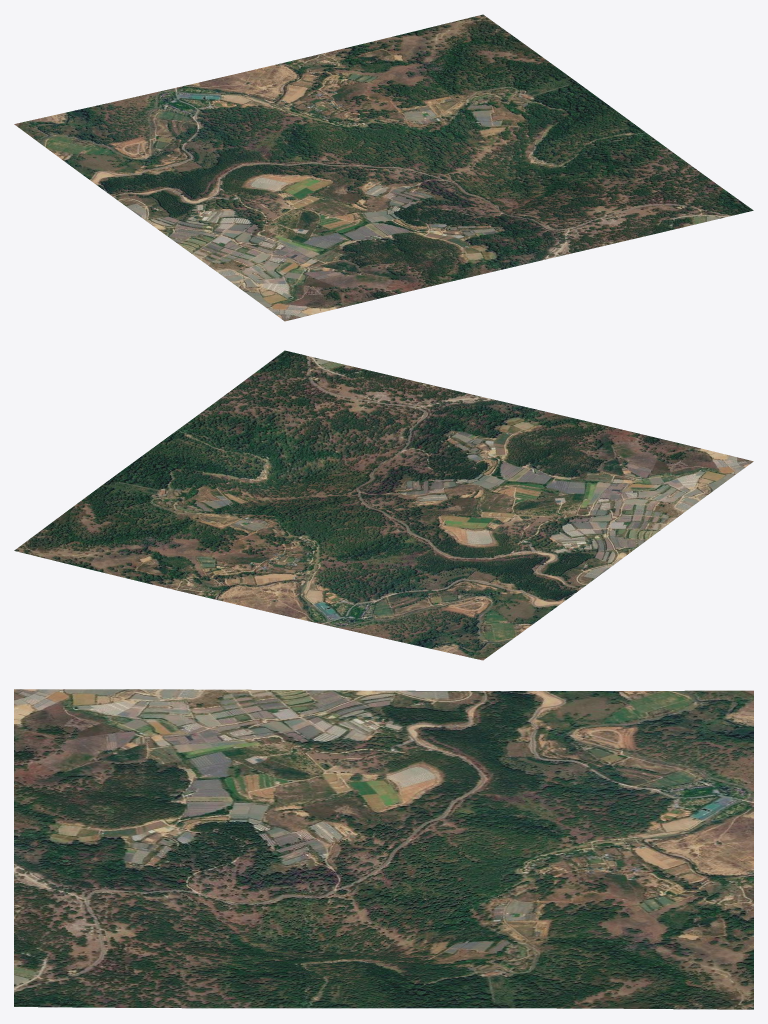
Rendered from terrain_real_T_W05_N03.glb.
3 views of the same model, one above another, from view 1: azimuth 30°, elevation 25°; view 2: azimuth 150°, elevation 25°; view 3: azimuth 270°, elevation 25° (orthographic). The views are drawn at different scales.
Parts seen in each view (by area): view 1: Terrain_Real_DEM_T_W05_N03; view 2: Terrain_Real_DEM_T_W05_N03; view 3: Terrain_Real_DEM_T_W05_N03.
Boxes of the visible parts, bbox=[...] form: Terrain_Real_DEM_T_W05_N03: bbox=[14, 14, 753, 321]; Terrain_Real_DEM_T_W05_N03: bbox=[14, 350, 753, 660]; Terrain_Real_DEM_T_W05_N03: bbox=[14, 689, 753, 1009].
Bounding box in the file's own units: 2000 × 97.5 × 2000.
Materials: 1 (1 with a texture image).
